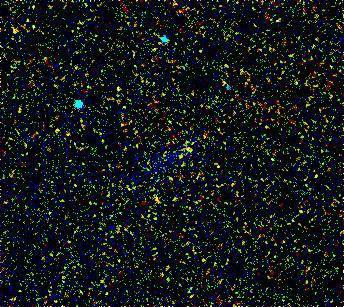star: (171, 135, 201, 165)
